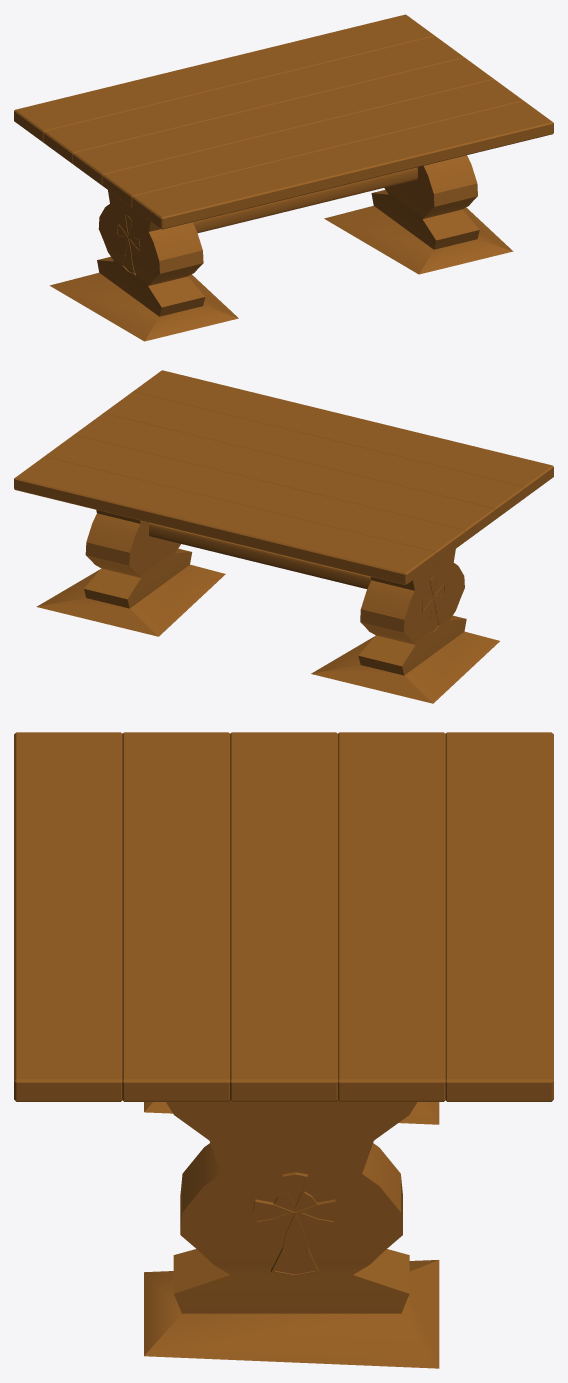
File: trytable1.fbx
The picture shows the model from 3 angles, top to bottom: view 1: azimuth 30°, elevation 25°; view 2: azimuth 150°, elevation 25°; view 3: azimuth 270°, elevation 25°; orthographic projection. The views are drawn at different scales.
Visible parts, largest first — view 1: Tabletop5, tableleg1, Tabletop4, Tabletop3, Tabletop1, Tabletop2, tableleg, crossPiece; view 2: Tabletop1, tableleg1, tableleg, Tabletop2, Tabletop3, Tabletop5, Tabletop4, crossPiece; view 3: tableleg, Tabletop5, Tabletop1, Tabletop3, Tabletop4, Tabletop2, tableDetail1, tableleg1.
Part boxes in pixels (left/top/right/bottom): Tabletop5: left=132, top=101, right=553, bottom=229; tableleg1: left=49, top=190, right=238, bottom=341; Tabletop4: left=102, top=79, right=523, bottom=207; Tabletop3: left=73, top=58, right=493, bottom=185; Tabletop1: left=14, top=14, right=434, bottom=142; Tabletop2: left=43, top=36, right=464, bottom=163; tableleg: left=324, top=155, right=513, bottom=274; crossPiece: left=193, top=167, right=417, bottom=232; Tabletop1: left=14, top=457, right=435, bottom=585; tableleg1: left=311, top=549, right=499, bottom=703; tableleg: left=36, top=510, right=225, bottom=636; Tabletop2: left=44, top=435, right=465, bottom=562; Tabletop3: left=74, top=413, right=494, bottom=541; Tabletop5: left=133, top=370, right=553, bottom=498; Tabletop4: left=103, top=392, right=524, bottom=519; crossPiece: left=149, top=523, right=371, bottom=588; tableleg: left=144, top=1100, right=439, bottom=1368; Tabletop5: left=14, top=732, right=122, bottom=1101; Tabletop1: left=445, top=732, right=553, bottom=1101; Tabletop3: left=230, top=732, right=337, bottom=1101; Tabletop4: left=122, top=732, right=229, bottom=1101; Tabletop2: left=338, top=732, right=445, bottom=1101; tableDetail1: left=252, top=1172, right=337, bottom=1277; tableleg1: left=144, top=1102, right=439, bottom=1124.
Size of the model in its own units: 9.21 by 3.38 by 5.89.
